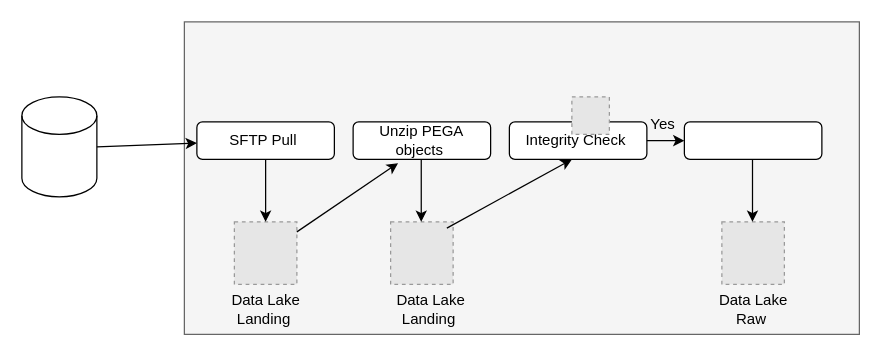
Image size: 881x356. Some labels were removed from this diagram. Grey dashed boxes stand in for pictures. Here are the shapes that lost their labels. From the top down, the centre of each, then its label:
the point at 59,146: PEGA
the point at 752,140: Copy Activity
